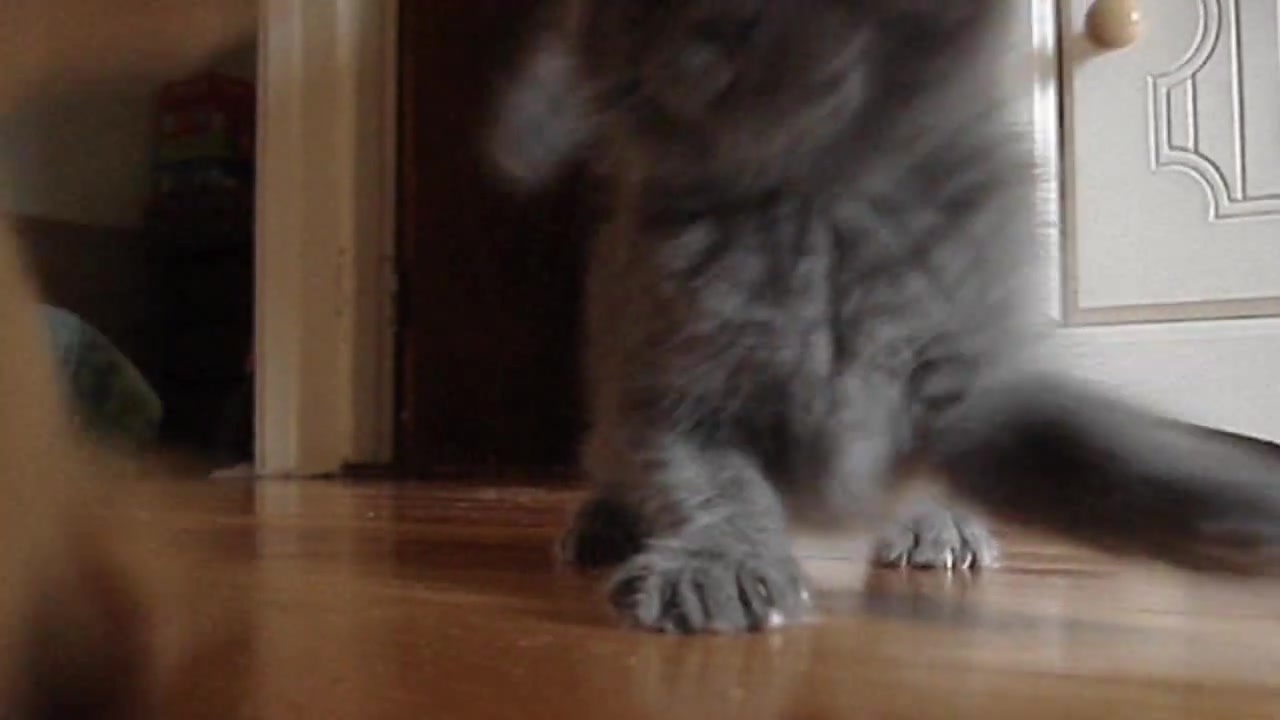cat: (501, 3, 1279, 631)
